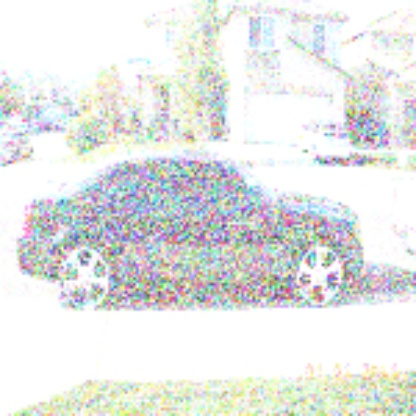Vehicle: (11, 148, 369, 309)
